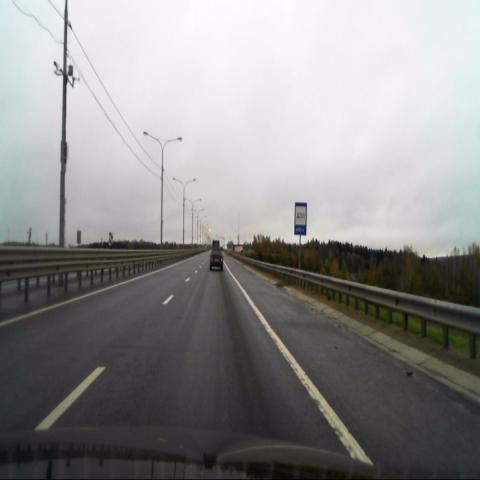7_12: (294, 202, 306, 235)
